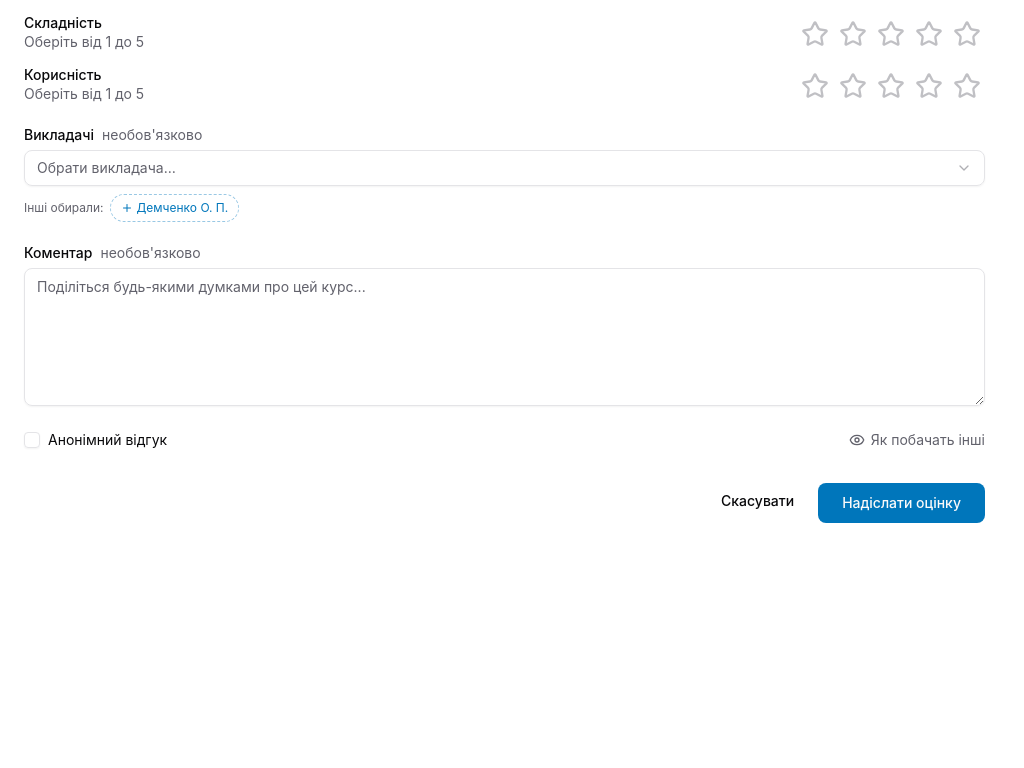
Scenario: RatingForm › instructor field › previews the chosen teacher and removes it by tapping its badge
Step 1. Click the button with aria-label "Додати: Демченко Олена Петрівна" → (174, 208), box [110,194,239,222]
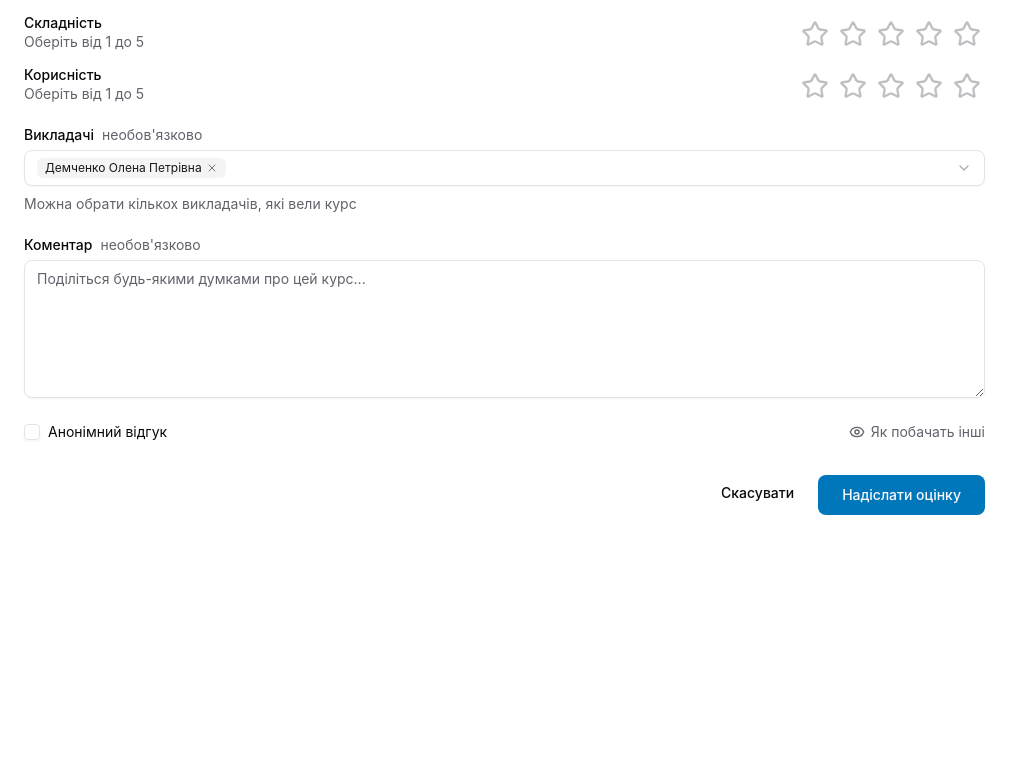
Step 2. Click the button "Як побачать інші" → (917, 432), box [849,422,985,442]
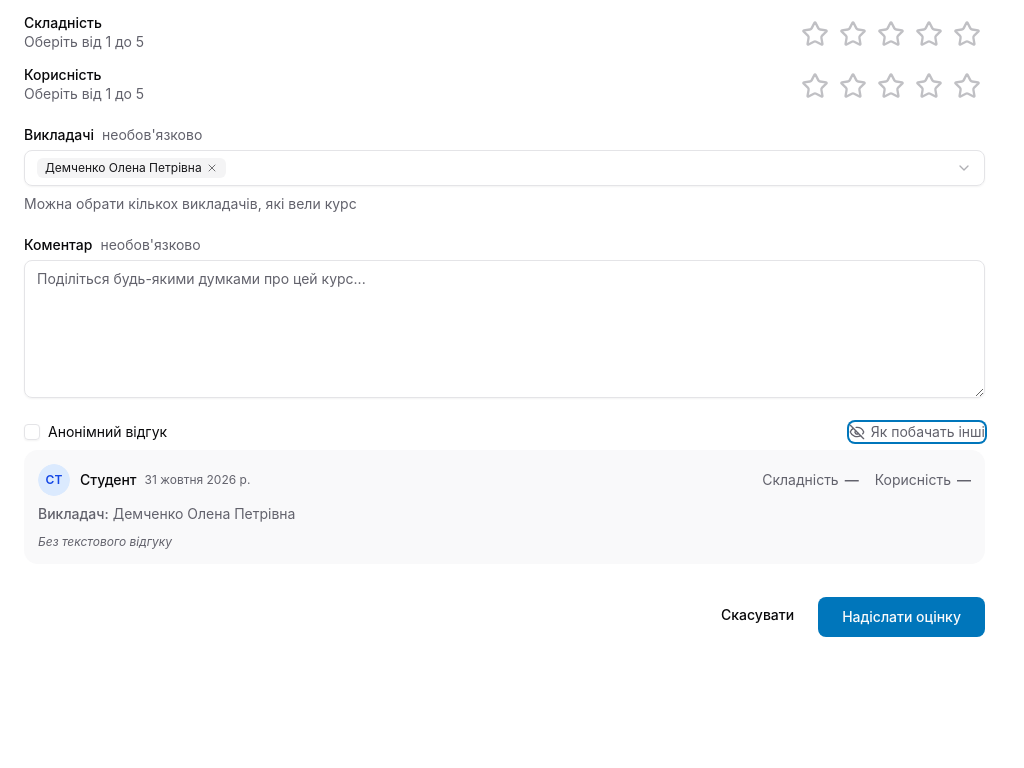
Note: The name itself is part of the remove target, not only the ×.
Step 3. Click the button "Демченко Олена Петрівна" → (131, 168), box [37,158,226,178]
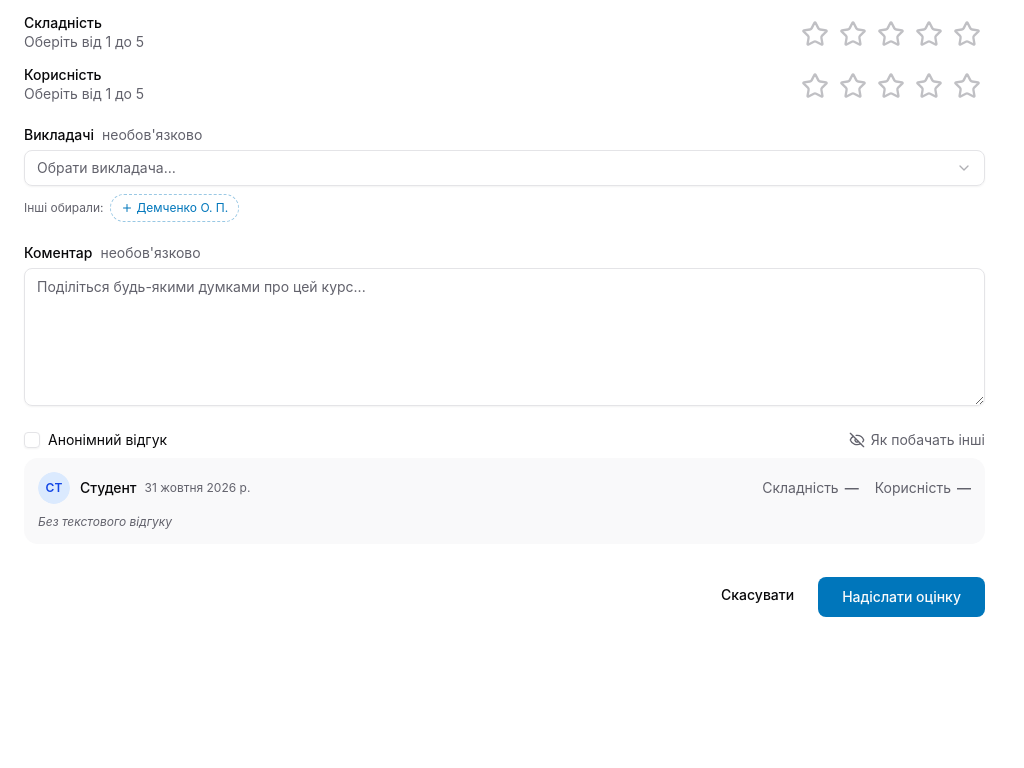
Expected: the element named "Попередній перегляд відгуку" does not show "Демченко", [24,458,985,544]
Expected: the button with aria-label "Додати: Демченко Олена Петрівна" is shown, [110,194,239,222]
